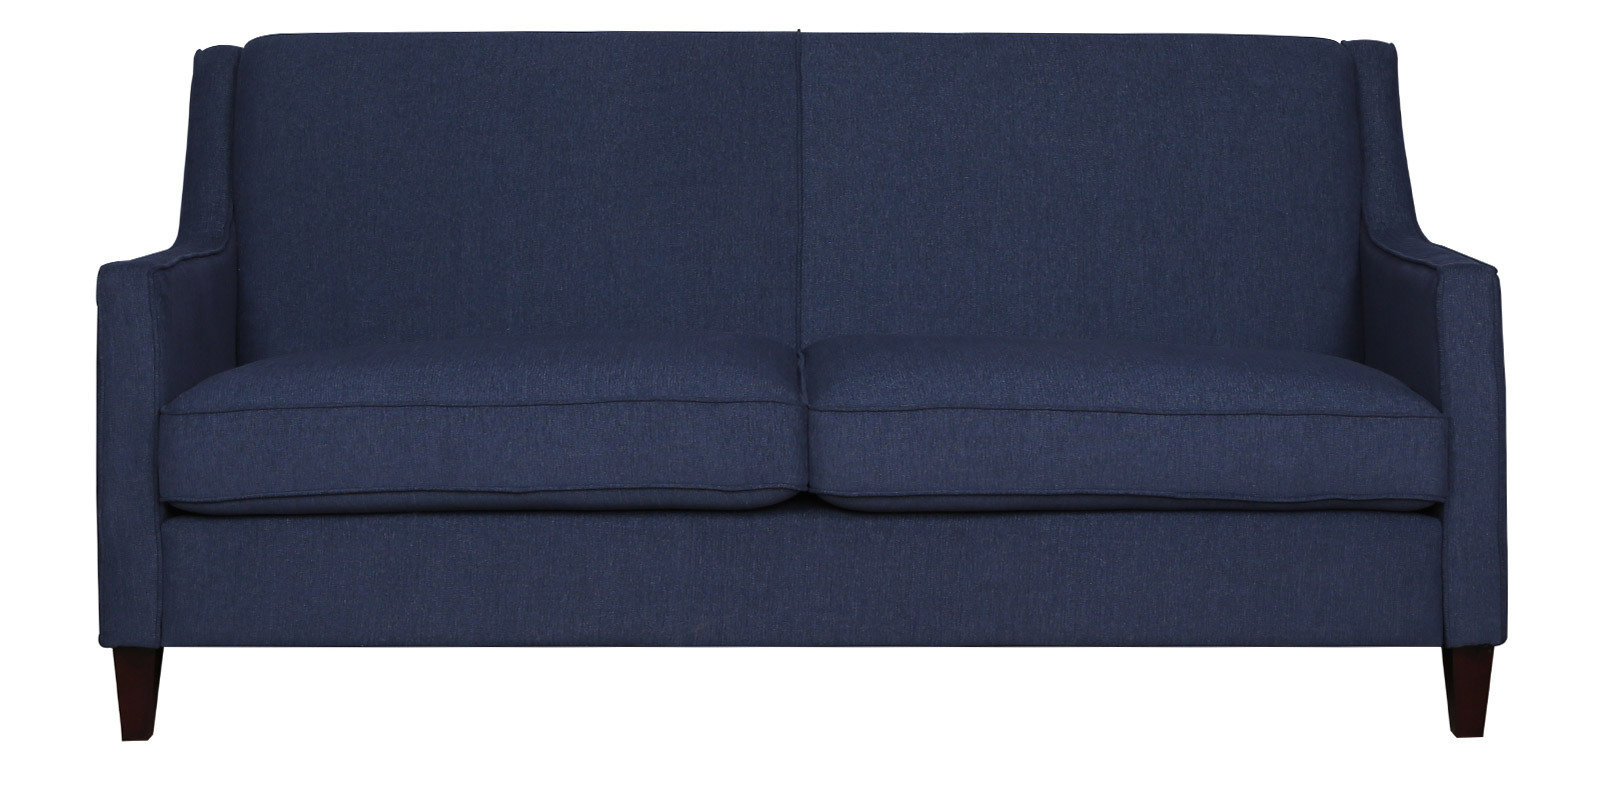Oscar Three Seater Sofa in Navy Blue Colour by CasaCraft: (95, 31, 1511, 739)
